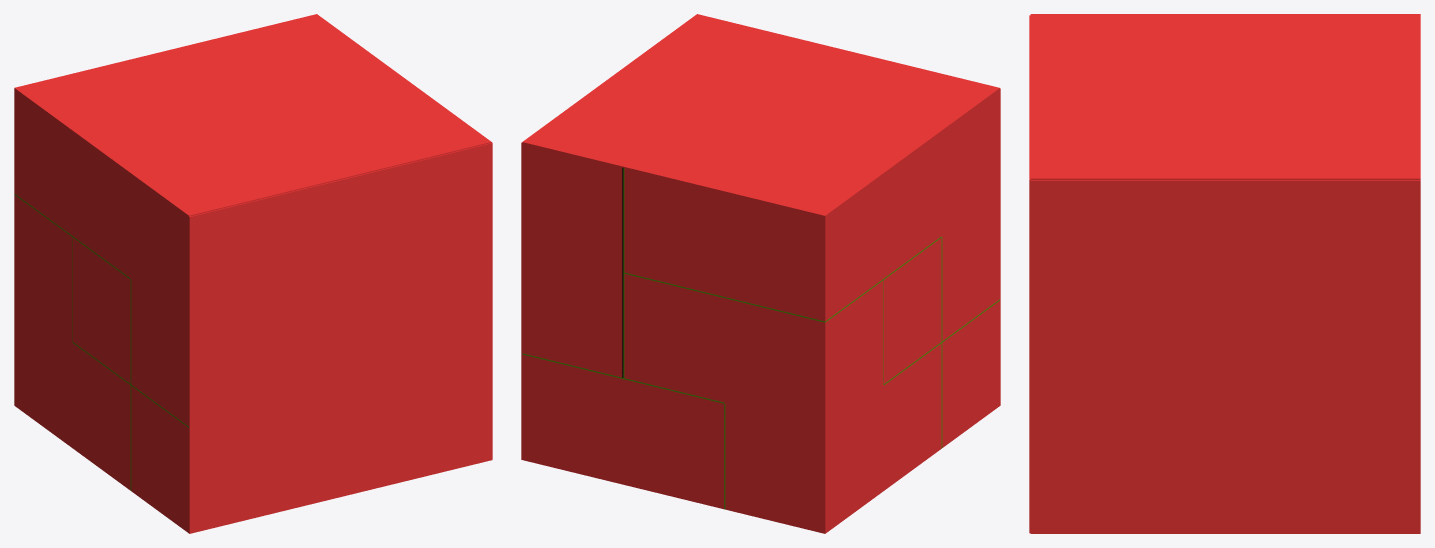
The picture shows the model from 3 angles, left to right: view 1: azimuth 30°, elevation 25°; view 2: azimuth 150°, elevation 25°; view 3: azimuth 270°, elevation 25°; orthographic projection. The views are drawn at different scales.
Parts seen in each view (by area): view 1: Box110; view 2: Box110; view 3: Box110.
Boxes of the visible parts, bbox=[...] form: Box110: bbox=[14, 14, 492, 533]; Box110: bbox=[521, 14, 1000, 533]; Box110: bbox=[1029, 14, 1420, 533].
Size of the model in its own units: 119 by 119 by 119.
